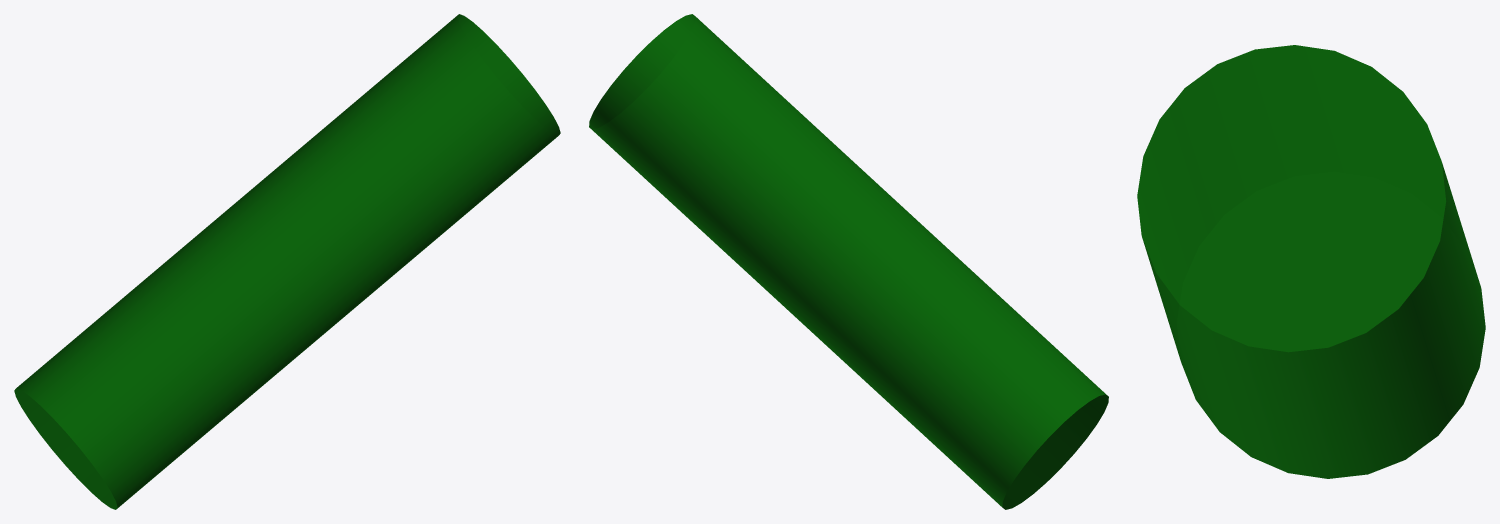
File: Event_194851961_jet_3.fbx
3 views of the same model, side by side, from view 1: azimuth 30°, elevation 25°; view 2: azimuth 150°, elevation 25°; view 3: azimuth 270°, elevation 25° (orthographic). The views are drawn at different scales.
Parts seen in each view (by area): view 1: Model; view 2: Model; view 3: Model.
Boxes of the visible parts, x1,y1,x2,y2 form: Model: (14,14,560,509); Model: (589,14,1108,509); Model: (1137,45,1485,478).
Bounding box in the file's own units: 0.1472 × 0.1112 × 0.0451.
